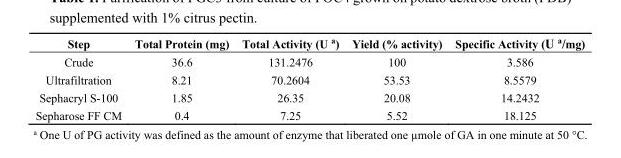table: (34, 35, 584, 121)
table column: (447, 35, 584, 121), (234, 35, 344, 121), (127, 35, 234, 121), (344, 35, 447, 121), (34, 35, 127, 121)
table column header: (34, 35, 584, 52)
table row: (34, 52, 584, 70), (34, 70, 584, 88), (34, 88, 584, 106), (34, 35, 584, 52), (34, 106, 584, 121)
